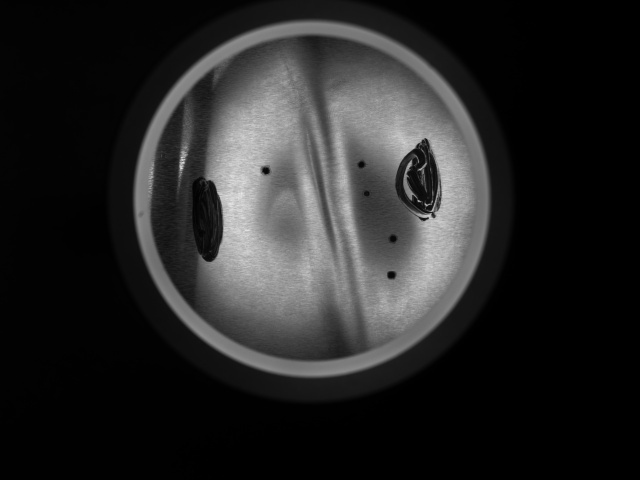zang_wu: (389, 124, 451, 228), (187, 180, 236, 264)
zhe_zhou: (288, 42, 374, 354)
zhen_kong: (253, 157, 280, 184), (348, 150, 375, 177), (378, 264, 407, 289), (382, 224, 406, 251), (357, 182, 380, 209)
